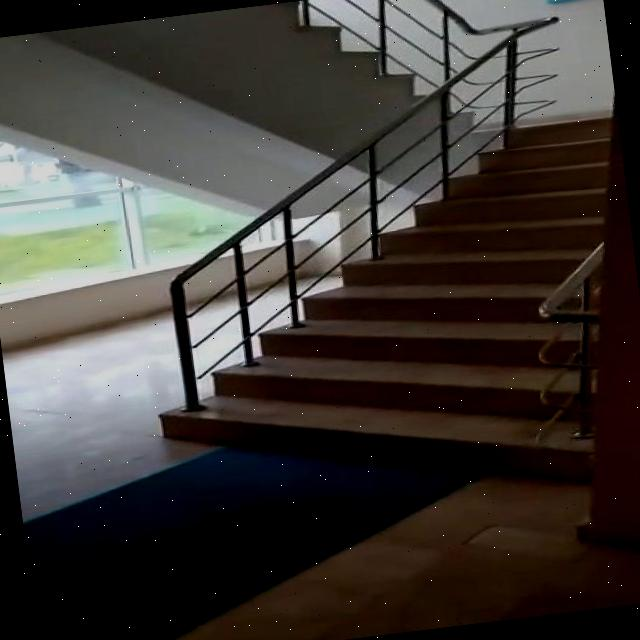stairs: (127, 111, 640, 531)
